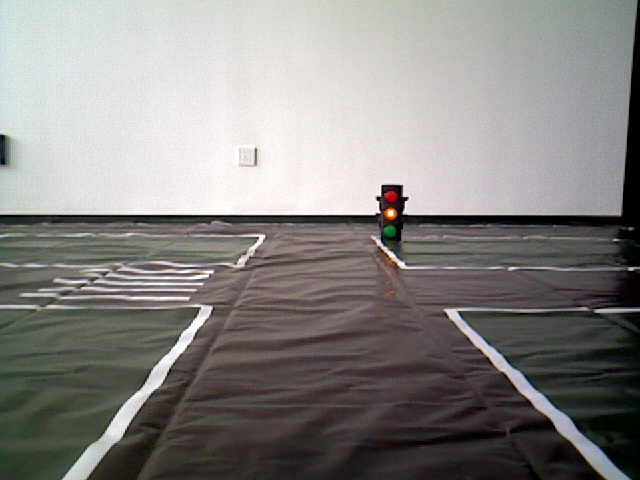yellow: (376, 179, 403, 246)
